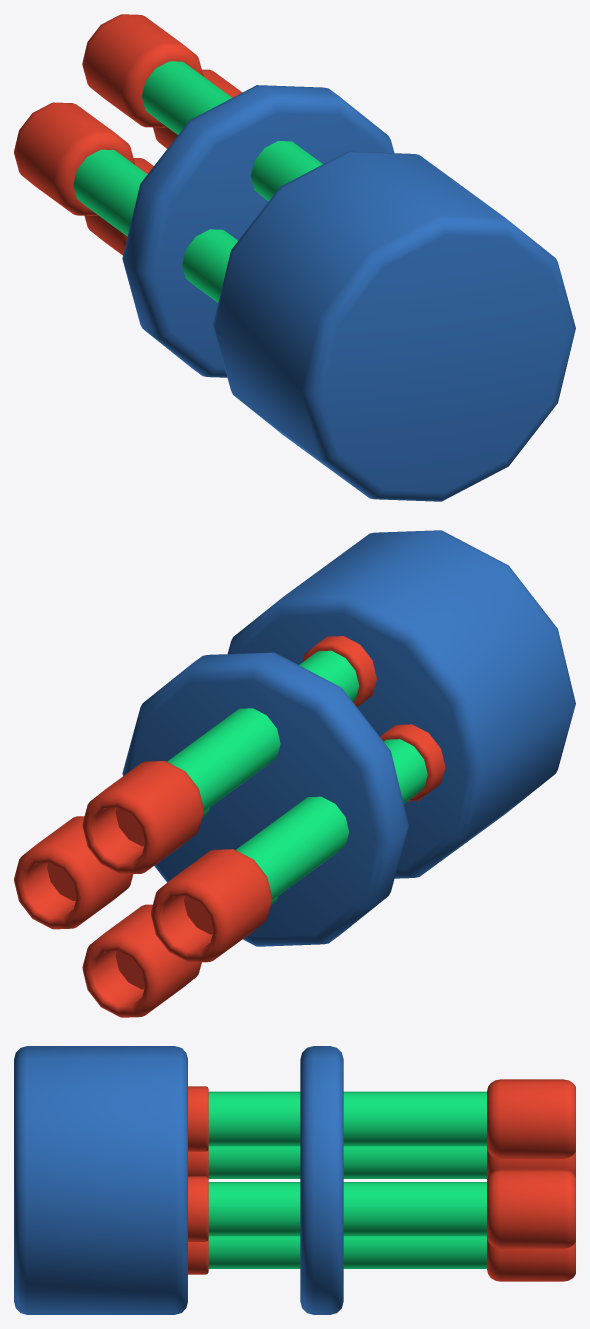
File: minigun_up.fbx
The picture shows the model from 3 angles, top to bottom: view 1: azimuth 30°, elevation 25°; view 2: azimuth 150°, elevation 25°; view 3: azimuth 270°, elevation 25°; orthographic projection. The views are drawn at different scales.
Parts seen in each view (by area): view 1: minigun_disc_2, minigun_disc, minigun_up_1, minigun_up_4, minigun_up_3, minigun_up_2; view 2: minigun_disc_2, minigun_disc, minigun_up_1, minigun_up_4, minigun_up_3, minigun_up_2; view 3: minigun_disc_2, minigun_up_4, minigun_up_2, minigun_disc, minigun_up_3, minigun_up_1.
Boxes of the visible parts, x1=… form: minigun_disc_2: x1=213, y1=151, x2=575, y2=501; minigun_disc: x1=122, y1=85, x2=394, y2=377; minigun_up_1: x1=14, y1=102, x2=237, y2=302; minigun_up_4: x1=82, y1=14, x2=322, y2=201; minigun_up_3: x1=84, y1=158, x2=153, y2=255; minigun_up_2: x1=153, y1=69, x2=242, y2=148; minigun_disc_2: x1=227, y1=530, x2=575, y2=878; minigun_disc: x1=122, y1=652, x2=408, y2=946; minigun_up_1: x1=151, y1=724, x2=445, y2=962; minigun_up_4: x1=82, y1=636, x2=376, y2=874; minigun_up_3: x1=82, y1=896, x2=277, y2=1017; minigun_up_2: x1=14, y1=807, x2=209, y2=929; minigun_disc_2: x1=14, y1=1046, x2=187, y2=1314; minigun_up_4: x1=188, y1=1079, x2=575, y2=1158; minigun_up_2: x1=188, y1=1169, x2=575, y2=1248; minigun_disc: x1=300, y1=1046, x2=343, y2=1314; minigun_up_3: x1=188, y1=1236, x2=575, y2=1281; minigun_up_1: x1=188, y1=1146, x2=575, y2=1179.
Size of the model in its own units: 41.46 by 41.46 by 86.38.
